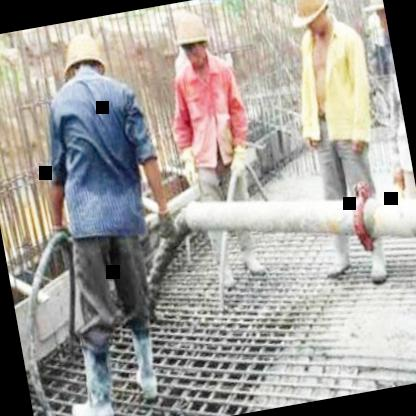helmet: (170, 3, 218, 78), (57, 32, 113, 96), (289, 0, 340, 54), (354, 0, 393, 62)
